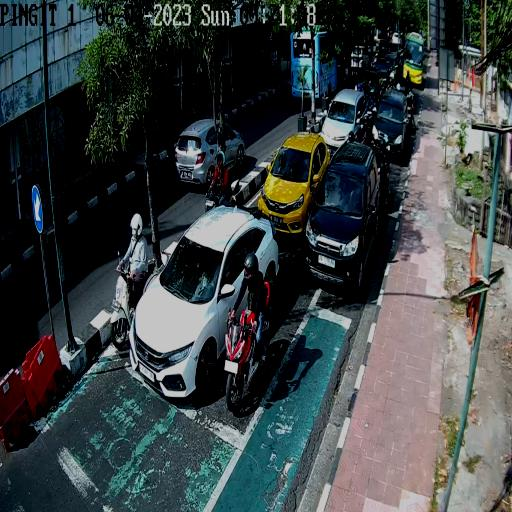mobil: (130, 206, 281, 398), (302, 140, 378, 292), (259, 131, 328, 236), (320, 86, 366, 163), (374, 86, 408, 162), (403, 30, 425, 87)
motor: (226, 280, 272, 413), (110, 251, 159, 348), (202, 182, 236, 233)
